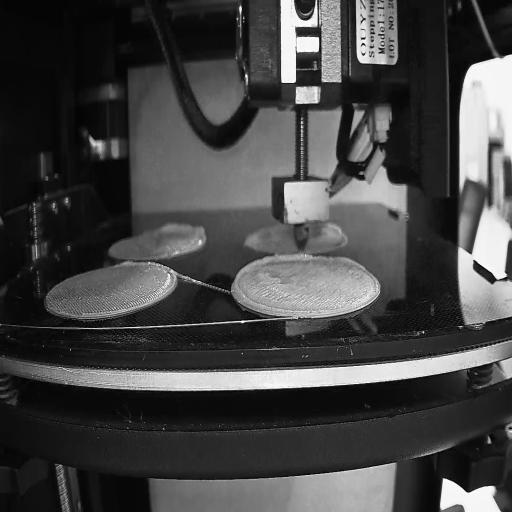over_extrusion: (230, 250, 317, 317), (160, 222, 208, 256), (335, 254, 366, 274), (330, 216, 345, 248), (117, 258, 141, 269)
